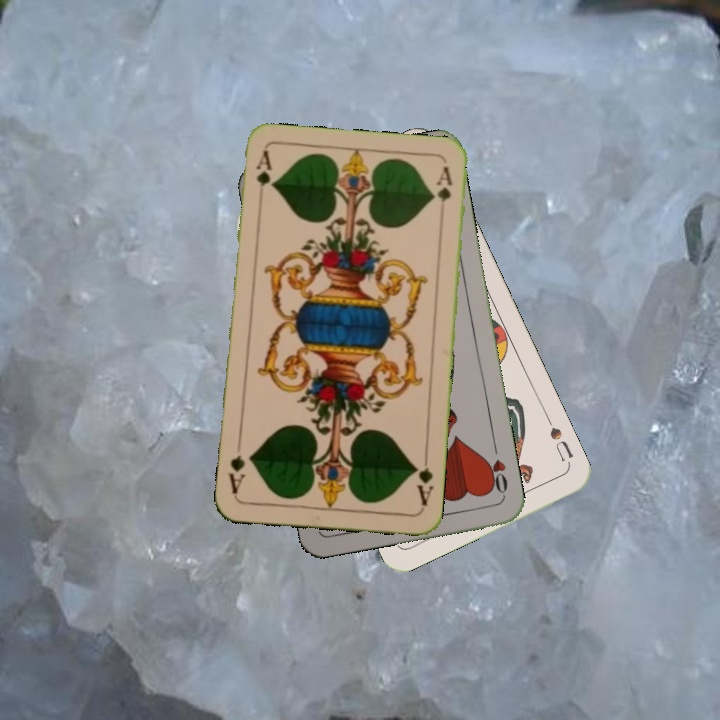GA: (410, 451, 436, 510), (252, 148, 274, 189)
HO: (481, 440, 510, 498)
SU: (542, 412, 576, 468)
